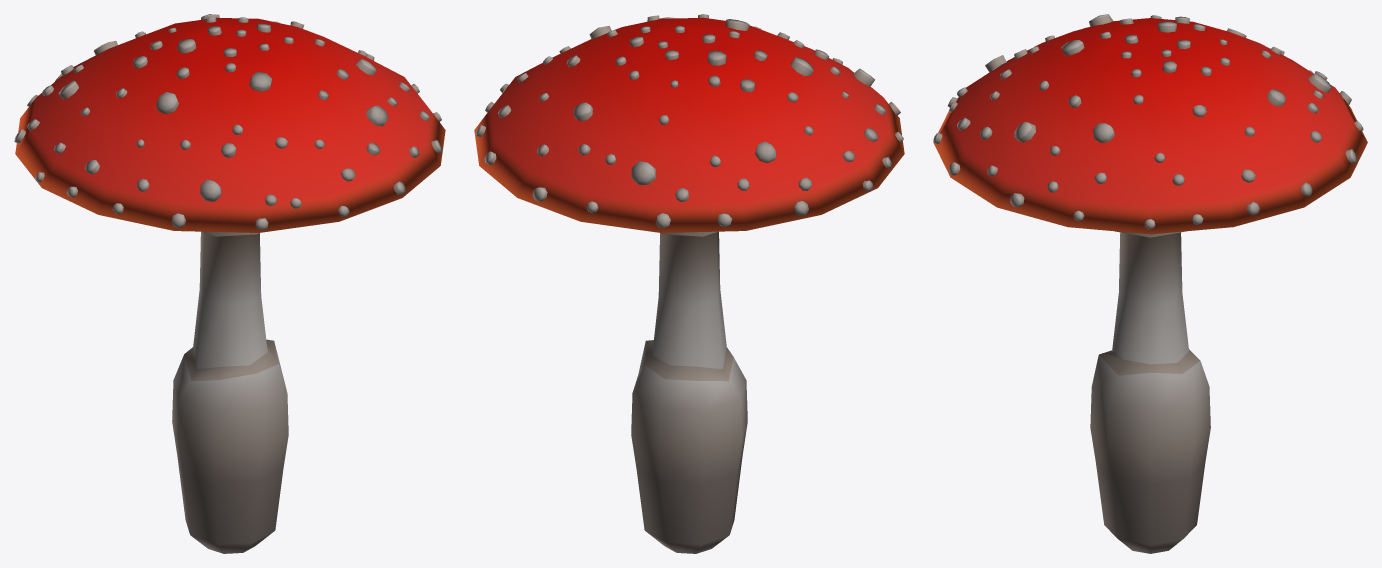
The model's file is plants-mushrooms-toadstool_v1.glb.
3 renders of one model, left to right at view 1: azimuth 30°, elevation 25°; view 2: azimuth 150°, elevation 25°; view 3: azimuth 270°, elevation 25°, orthographic.
Parts seen in each view (by area): view 1: Toadstool_v1; view 2: Toadstool_v1; view 3: Toadstool_v1.
Part boxes in pixels (bbox=[...]): Toadstool_v1: bbox=[14, 14, 445, 553]; Toadstool_v1: bbox=[474, 14, 904, 553]; Toadstool_v1: bbox=[933, 14, 1367, 553].
Size of the model in its own units: 0.154 by 0.2 by 0.1541.
